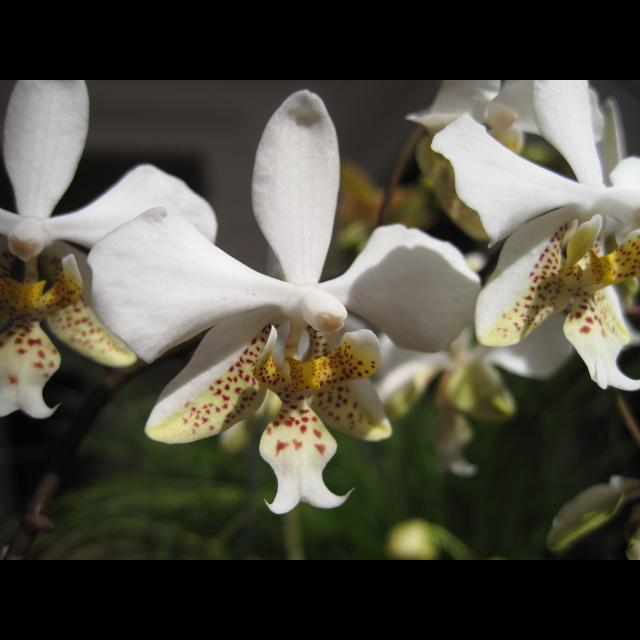Flower: (83, 89, 483, 517), (1, 80, 218, 422), (437, 83, 639, 391), (404, 80, 606, 160)
